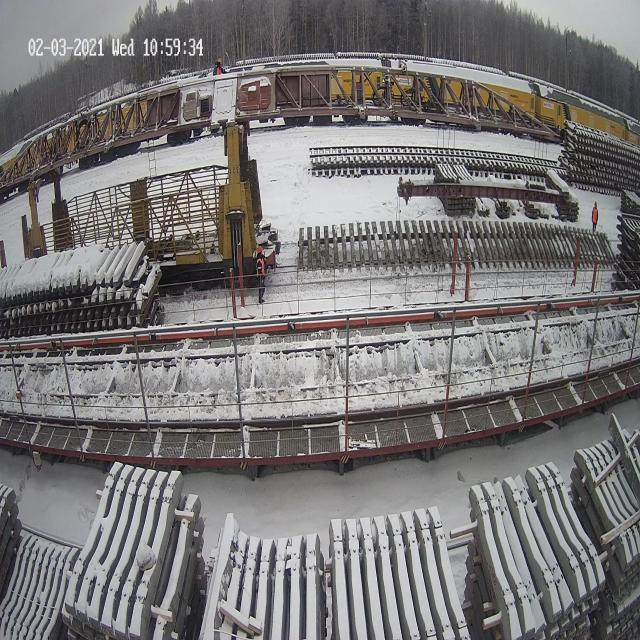Helmet: (256, 246, 262, 254)
Person: (256, 245, 266, 305), (592, 201, 598, 232), (214, 58, 222, 74)
